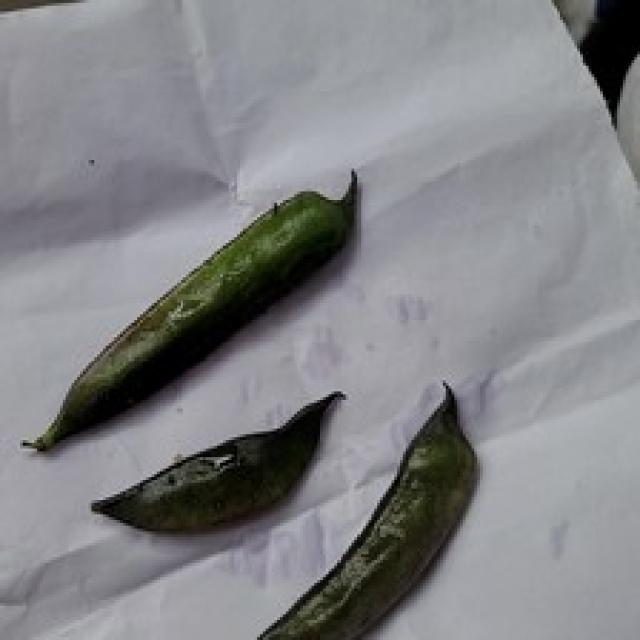Bean: (17, 166, 357, 451), (232, 377, 477, 637), (88, 389, 346, 534)
